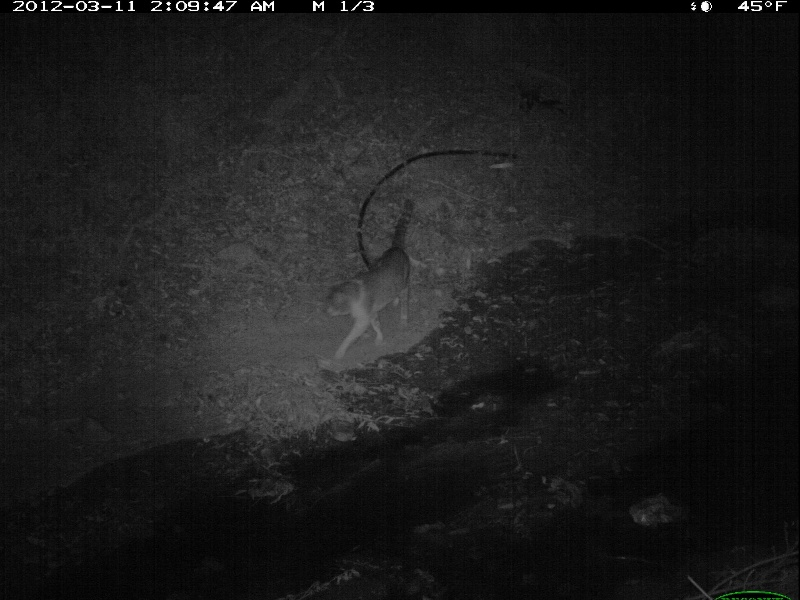cat: (327, 194, 418, 366)
